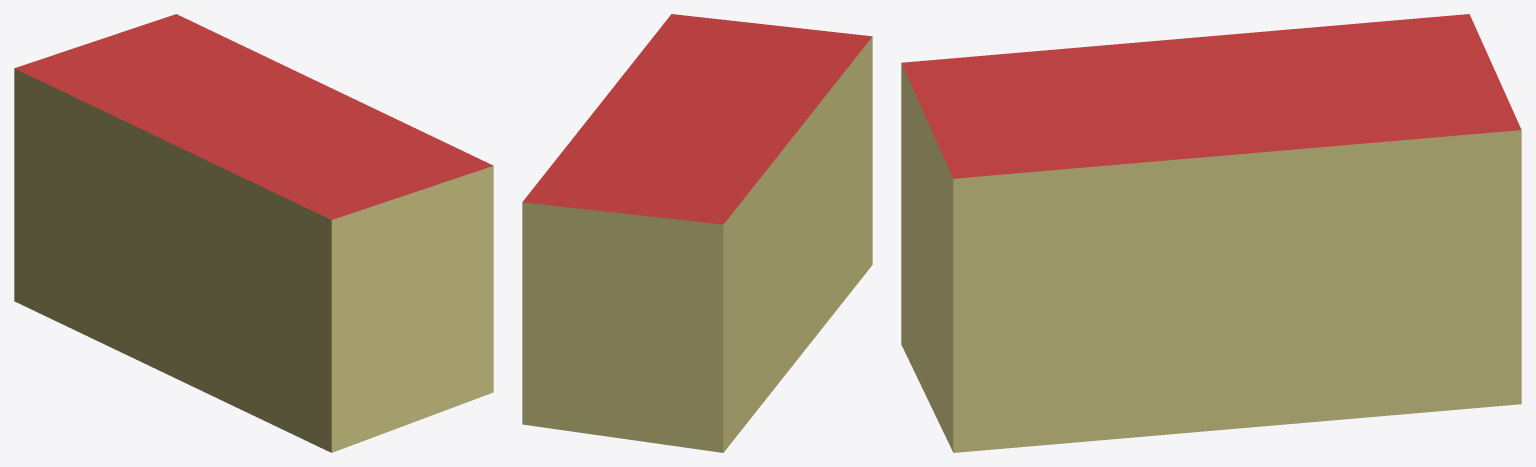
3 renders of one model, left to right at view 1: azimuth 30°, elevation 25°; view 2: azimuth 150°, elevation 25°; view 3: azimuth 270°, elevation 25°, orthographic. The views are drawn at different scales.
Size of the model in its own units: 6.54 by 10.91 by 5.47.
